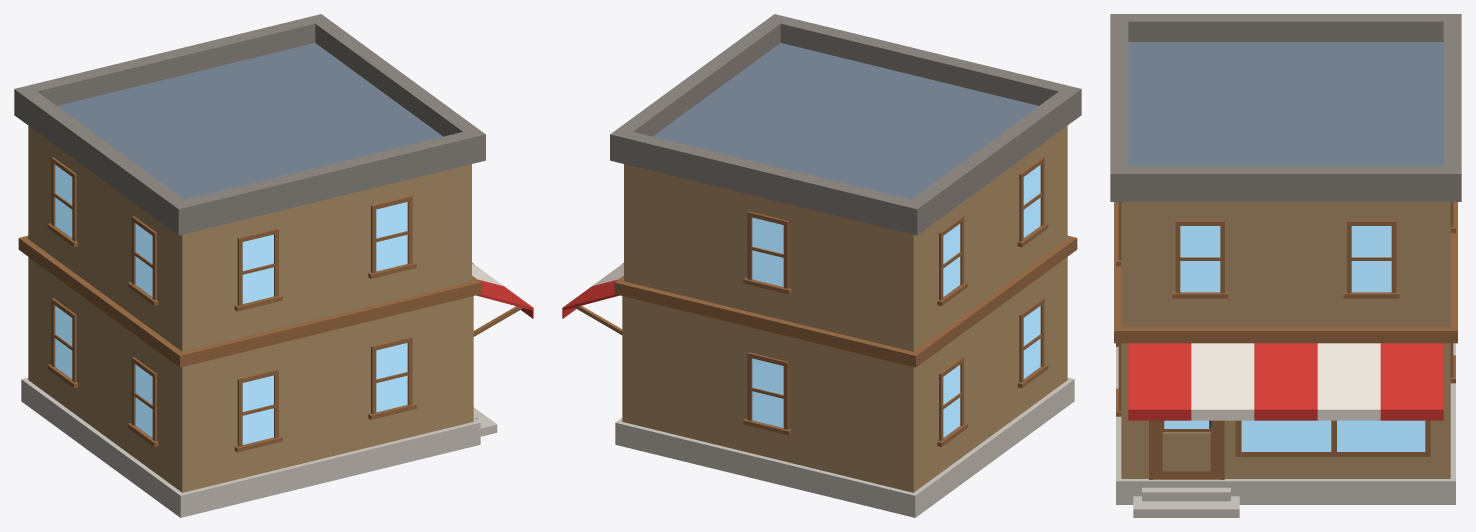
Rendered from small store.fbx.
3 renders of one model, left to right at view 1: azimuth 30°, elevation 25°; view 2: azimuth 150°, elevation 25°; view 3: azimuth 270°, elevation 25°, orthographic. The views are drawn at different scales.
Parts seen in each view (by area): view 1: Bracket_Side_L; view 2: Bracket_Side_L; view 3: Bracket_Side_L.
Boxes of the visible parts, x1,y1,x2,y2 form: Bracket_Side_L: (14, 14, 533, 517); Bracket_Side_L: (562, 14, 1081, 517); Bracket_Side_L: (1110, 14, 1461, 517).
Bounding box in the file's own units: 653 × 535 × 512.
